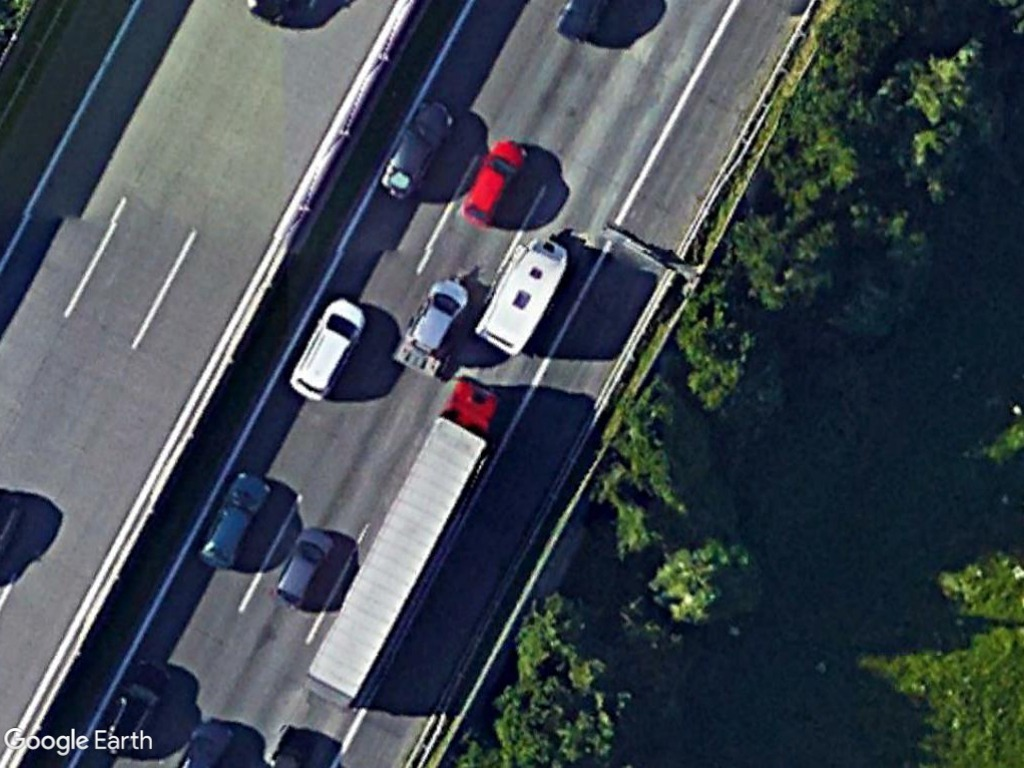car: (190, 455, 281, 576), (372, 90, 458, 202), (284, 294, 371, 402), (454, 131, 530, 232), (268, 518, 343, 604)
longvehicle: (303, 378, 504, 702)
